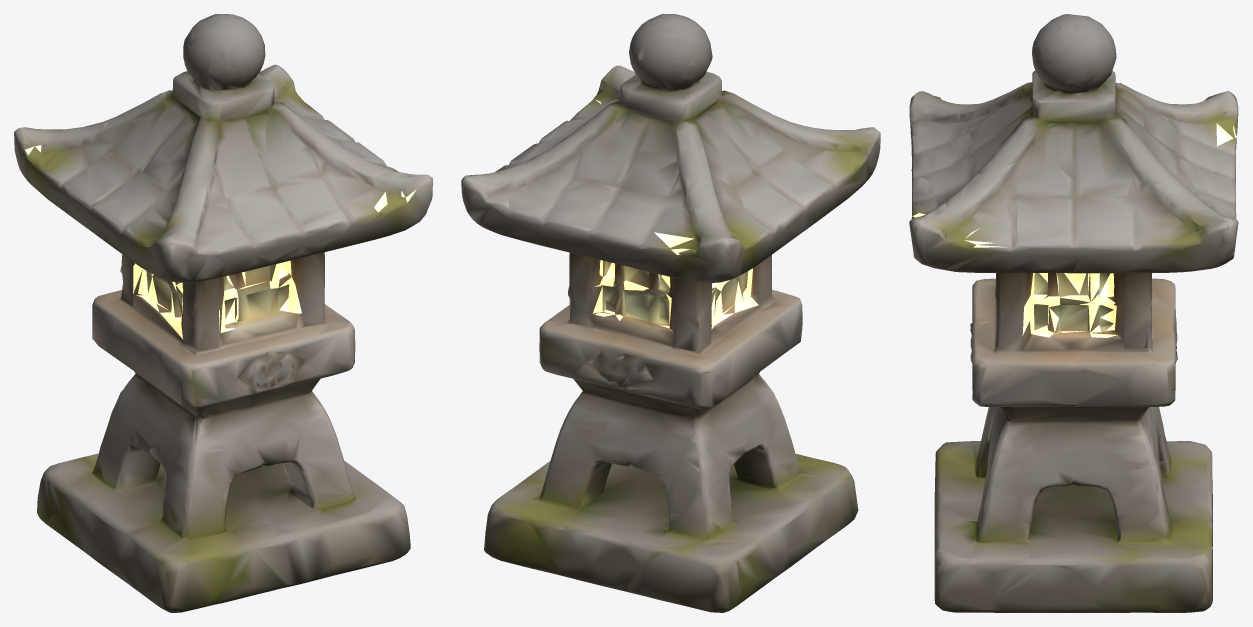
The model's file is lantern-high.glb.
3 views of the same model, side by side, from view 1: azimuth 30°, elevation 25°; view 2: azimuth 150°, elevation 25°; view 3: azimuth 270°, elevation 25° (orthographic). The views are drawn at different scales.
Visible parts, largest first — view 1: lantern-high; view 2: lantern-high; view 3: lantern-high.
Boxes of the visible parts, left/top/right/bottom form: lantern-high: left=14, top=14, right=432, bottom=612; lantern-high: left=461, top=14, right=880, bottom=612; lantern-high: left=909, top=14, right=1238, bottom=612.
Size of the model in its own units: 0.9776 by 1.8 by 1.
